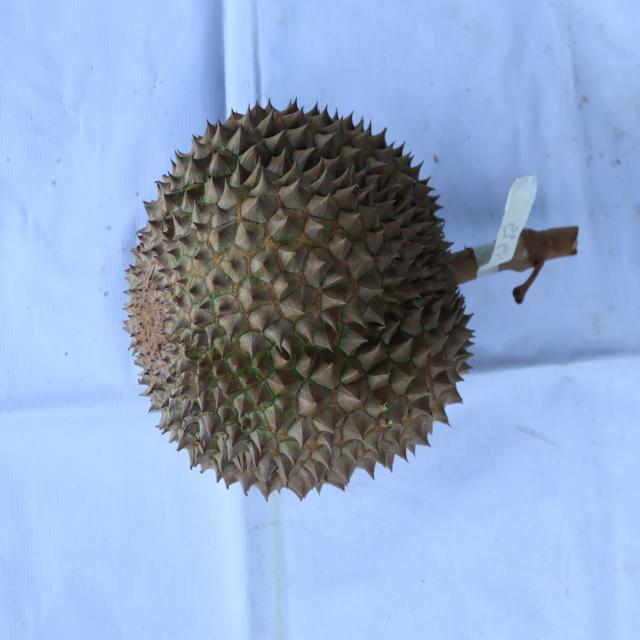mature: (120, 97, 476, 504)
